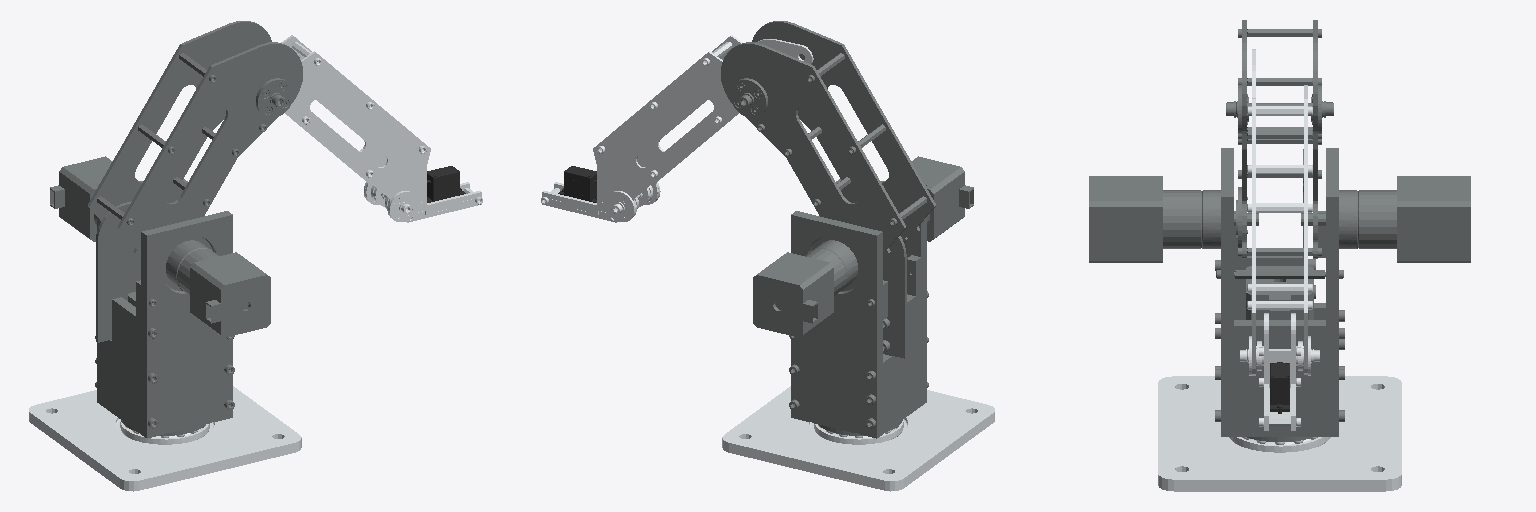
robot.urdf — МР.300821.000.000 Манипулятор роботизированный.SLDASM:
<?xml version="1.0" encoding="utf-8"?>
<!-- This URDF was automatically created by SolidWorks to URDF Exporter! Originally created by [author] ([email redacted]) 
     Commit Version: 1.6.0-4-g7f85cfe  Build Version: 1.6.7995.38578
     For more information, please see http://wiki.ros.org/sw_urdf_exporter -->
<robot
  name="МР.300821.000.000 Манипулятор роботизированный.SLDASM">
  <link
    name="base_link">
    <inertial>
      <origin
        xyz="-2.71598519110808E-09 2.95460784926068E-08 0.00471164634309819"
        rpy="0 0 0" />
      <mass
        value="0.539924220844728" />
      <inertia
        ixx="0.000900127008306627"
        ixy="2.41090417019009E-11"
        ixz="-2.74229850497976E-12"
        iyy="0.000900126622269955"
        iyz="1.00434637976351E-10"
        izz="0.00179527912392399" />
    </inertial>
    <visual>
      <origin
        xyz="0 0 0"
        rpy="0 0 0" />
      <geometry>
        <mesh
          filename="package://МР.300821.000.000 Манипулятор роботизированный.SLDASM/meshes/base_link.STL" />
      </geometry>
      <material
        name="">
        <color
          rgba="0.898039215686275 0.917647058823529 0.929411764705882 1" />
      </material>
    </visual>
    <collision>
      <origin
        xyz="0 0 0"
        rpy="0 0 0" />
      <geometry>
        <mesh
          filename="package://МР.300821.000.000 Манипулятор роботизированный.SLDASM/meshes/base_link.STL" />
      </geometry>
    </collision>
  </link>
  <link
    name="link_1">
    <inertial>
      <origin
        xyz="-0.000351753993732819 -8.3567663927646E-06 0.0898336974365761"
        rpy="0 0 0" />
      <mass
        value="3.66151948541535" />
      <inertia
        ixx="0.00310617918852613"
        ixy="-1.79346766903033E-10"
        ixz="-4.26581239585264E-06"
        iyy="0.00238146240355345"
        iyz="6.19780770186759E-06"
        izz="0.00193792228130143" />
    </inertial>
    <visual>
      <origin
        xyz="0 0 0"
        rpy="0 0 0" />
      <geometry>
        <mesh
          filename="package://МР.300821.000.000 Манипулятор роботизированный.SLDASM/meshes/link_1.STL" />
      </geometry>
      <material
        name="">
        <color
          rgba="0.529411764705882 0.549019607843137 0.549019607843137 1" />
      </material>
    </visual>
    <collision>
      <origin
        xyz="0 0 0"
        rpy="0 0 0" />
      <geometry>
        <mesh
          filename="package://МР.300821.000.000 Манипулятор роботизированный.SLDASM/meshes/link_1.STL" />
      </geometry>
    </collision>
  </link>
  <joint
    name="joint_1"
    type="revolute">
    <origin
      xyz="0 0 0.023"
      rpy="0 0 0" />
    <parent
      link="base_link" />
    <child
      link="link_1" />
    <axis
      xyz="0 0 -1" />
    <limit
      lower="-2.25"
      upper="2.25"
      effort="150"
      velocity="3.15" />
  </joint>
  <link
    name="link_2">
    <inertial>
      <origin
        xyz="0.0802989234204302 -0.0313774428885639 0.0170516442881635"
        rpy="0 0 0" />
      <mass
        value="0.270091528613218" />
      <inertia
        ixx="0.000249674509569272"
        ixy="0.000212614890206966"
        ixz="1.00551545422623E-11"
        iyy="0.000375748340474235"
        iyz="-3.1145353157779E-12"
        izz="0.000606312552798785" />
    </inertial>
    <visual>
      <origin
        xyz="0 0 0"
        rpy="0 0 0" />
      <geometry>
        <mesh
          filename="package://МР.300821.000.000 Манипулятор роботизированный.SLDASM/meshes/link_2.STL" />
      </geometry>
      <material
        name="">
        <color
          rgba="0.529411764705882 0.549019607843137 0.549019607843137 1" />
      </material>
    </visual>
    <collision>
      <origin
        xyz="0 0 0"
        rpy="0 0 0" />
      <geometry>
        <mesh
          filename="package://МР.300821.000.000 Манипулятор роботизированный.SLDASM/meshes/link_2.STL" />
      </geometry>
    </collision>
  </link>
  <joint
    name="joint_2"
    type="revolute">
    <origin
      xyz="0 0.017 0.126"
      rpy="1.5708 -1.5708 0" />
    <parent
      link="link_1" />
    <child
      link="link_2" />
    <axis
      xyz="0 0 1" />
    <limit
      lower="-1.5708"
      upper="0"
      effort="150"
      velocity="3.15" />
  </joint>
  <link
    name="link_3">
    <inertial>
      <origin
        xyz="0.0914329383955162 -0.0167858155846722 -0.0287545509911822"
        rpy="0 0 0" />
      <mass
        value="0.138752300386757" />
      <inertia
        ixx="2.12993376331771E-05"
        ixy="6.30986992605069E-06"
        ixz="-3.01004052882981E-10"
        iyy="0.000240368992862612"
        iyz="3.13456209550208E-11"
        izz="0.000256277873413495" />
    </inertial>
    <visual>
      <origin
        xyz="0 0 0"
        rpy="0 0 0" />
      <geometry>
        <mesh
          filename="package://МР.300821.000.000 Манипулятор роботизированный.SLDASM/meshes/link_3.STL" />
      </geometry>
      <material
        name="">
        <color
          rgba="0.898039215686275 0.917647058823529 0.929411764705882 1" />
      </material>
    </visual>
    <collision>
      <origin
        xyz="0 0 0"
        rpy="0 0 0" />
      <geometry>
        <mesh
          filename="package://МР.300821.000.000 Манипулятор роботизированный.SLDASM/meshes/link_3.STL" />
      </geometry>
    </collision>
  </link>
  <joint
    name="joint_3"
    type="fixed">
    <origin
      xyz="0.11065 -0.077347 -0.011298"
      rpy="3.1416 0 -2.3727" />
    <parent
      link="link_2" />
    <child
      link="link_3" />
    <axis
      xyz="0 0 1" />
    <limit
      lower="-1.5708"
      upper="0"
      effort="150"
      velocity="3.15" />
  </joint>
  <link
    name="link_4">
    <inertial>
      <origin
        xyz="0.025266504324877 -0.00292723326769553 0.0213987090714587"
        rpy="0 0 0" />
      <mass
        value="0.0428002294983427" />
      <inertia
        ixx="5.61420283566018E-06"
        ixy="2.98503981256174E-06"
        ixz="-1.49030702309947E-14"
        iyy="1.03113651752027E-05"
        iyz="1.9826949058735E-21"
        izz="1.51155017105664E-05" />
    </inertial>
    <visual>
      <origin
        xyz="0 0 0"
        rpy="0 0 0" />
      <geometry>
        <mesh
          filename="package://МР.300821.000.000 Манипулятор роботизированный.SLDASM/meshes/link_4.STL" />
      </geometry>
      <material
        name="">
        <color
          rgba="0.898039215686275 0.917647058823529 0.929411764705882 1" />
      </material>
    </visual>
    <collision>
      <origin
        xyz="0 0 0"
        rpy="0 0 0" />
      <geometry>
        <mesh
          filename="package://МР.300821.000.000 Манипулятор роботизированный.SLDASM/meshes/link_4.STL" />
      </geometry>
    </collision>
  </link>
  <joint
    name="joint_4"
    type="fixed">
    <origin
      xyz="0.16 0 -0.0068996"
      rpy="-3.1416 0 -0.80186" />
    <parent
      link="link_3" />
    <child
      link="link_4" />
    <axis
      xyz="0 0 1" />
    <limit
      lower="-3.14159265"
      upper="3.14159265"
      effort="150"
      velocity="3.15" />
  </joint>
  <link
    name="link_end">
    <inertial>
      <origin
        xyz="0.042639052456784 -0.00265741110262963 0.0213989196125615"
        rpy="0 0 0" />
      <mass
        value="0.0563600278017998" />
      <inertia
        ixx="3.93235368756174E-06"
        ixy="-3.1513858392879E-07"
        ixz="1.01588263910319E-11"
        iyy="3.24845631975552E-06"
        iyz="-9.57169867469052E-11"
        izz="5.89090746213927E-06" />
    </inertial>
    <visual>
      <origin
        xyz="0 0 0"
        rpy="0 0 0" />
      <geometry>
        <mesh
          filename="package://МР.300821.000.000 Манипулятор роботизированный.SLDASM/meshes/link_end.STL" />
      </geometry>
      <material
        name="">
        <color
          rgba="0.250980392156863 0.250980392156863 0.250980392156863 1" />
      </material>
    </visual>
    <collision>
      <origin
        xyz="0 0 0"
        rpy="0 0 0" />
      <geometry>
        <mesh
          filename="package://МР.300821.000.000 Манипулятор роботизированный.SLDASM/meshes/link_end.STL" />
      </geometry>
    </collision>
  </link>
  <joint
    name="joint_end"
    type="fixed">
    <origin
      xyz="0 0 0"
      rpy="0 0 0" />
    <parent
      link="link_4" />
    <child
      link="link_end" />
    <axis
      xyz="0 0 0" />
  </joint>
  <link
    name="link_grip">
    <inertial>
      <origin
        xyz="0.00255411407381756 -0.000617197035658973 -0.018924780194004"
        rpy="0 0 0" />
      <mass
        value="0.0557728067893343" />
      <inertia
        ixx="3.92728176216125E-06"
        ixy="-2.61102891070245E-12"
        ixz="3.15138580124354E-07"
        iyy="5.88583553323263E-06"
        iyz="9.57169866913753E-11"
        izz="3.247900742803E-06" />
    </inertial>
    <visual>
      <origin
        xyz="0 0 0"
        rpy="0 0 0" />
      <geometry>
        <mesh
          filename="package://МР.300821.000.000 Манипулятор роботизированный.SLDASM/meshes/link_grip.STL" />
      </geometry>
      <material
        name="">
        <color
          rgba="0.250980392156863 0.250980392156863 0.250980392156863 1" />
      </material>
    </visual>
    <collision>
      <origin
        xyz="0 0 0"
        rpy="0 0 0" />
      <geometry>
        <mesh
          filename="package://МР.300821.000.000 Манипулятор роботизированный.SLDASM/meshes/link_grip.STL" />
      </geometry>
    </collision>
  </link>
  <joint
    name="joint_grip"
    type="revolute">
    <origin
      xyz="0.040079 -0.0215 0.022016"
      rpy="1.5708 0 0" />
    <parent
      link="link_end" />
    <child
      link="link_grip" />
    <axis
      xyz="0 0 -1" />
    <limit
      lower="-1.570796325"
      upper="1.570796325"
      effort="150"
      velocity="3.15" />
  </joint>
</robot>

--- Render facts (derived) ---
Views: 3 orthographic renders of the robot side by side, from view 1: azimuth 30°, elevation 25°; view 2: azimuth 150°, elevation 25°; view 3: azimuth 270°, elevation 25°.
Robot: МР.300821.000.000 Манипулятор роботизированный.SLDASM — 7 links, 6 joints (3 revolute, 3 fixed); root link base_link; default pose: all joints at 0.
Visible links, largest first — view 1: link_1, link_2, base_link, link_3, link_4, link_end; view 2: link_1, link_2, base_link, link_3, link_4, link_grip; view 3: link_1, base_link, link_2, link_3, link_4, link_end.
Link boxes in pixels (bbox=[...]): link_1: bbox=[50, 156, 270, 438]; link_2: bbox=[88, 21, 302, 261]; base_link: bbox=[29, 386, 301, 491]; link_3: bbox=[281, 35, 430, 221]; link_4: bbox=[373, 168, 482, 222]; link_end: bbox=[427, 166, 465, 202]; link_1: bbox=[753, 156, 973, 438]; link_2: bbox=[721, 21, 935, 255]; base_link: bbox=[722, 386, 994, 491]; link_3: bbox=[593, 35, 813, 221]; link_4: bbox=[541, 168, 650, 222]; link_grip: bbox=[558, 166, 596, 202]; link_1: bbox=[1089, 148, 1470, 441]; base_link: bbox=[1158, 376, 1401, 491]; link_2: bbox=[1226, 20, 1333, 258]; link_3: bbox=[1240, 49, 1319, 375]; link_4: bbox=[1259, 313, 1300, 430]; link_end: bbox=[1270, 362, 1289, 413].
Size in the robot's own frame: 0.3336 by 0.234 by 0.303 metres.
Meshes: 7 distinct files referenced, 7 mesh visuals loaded (7 binary STL).